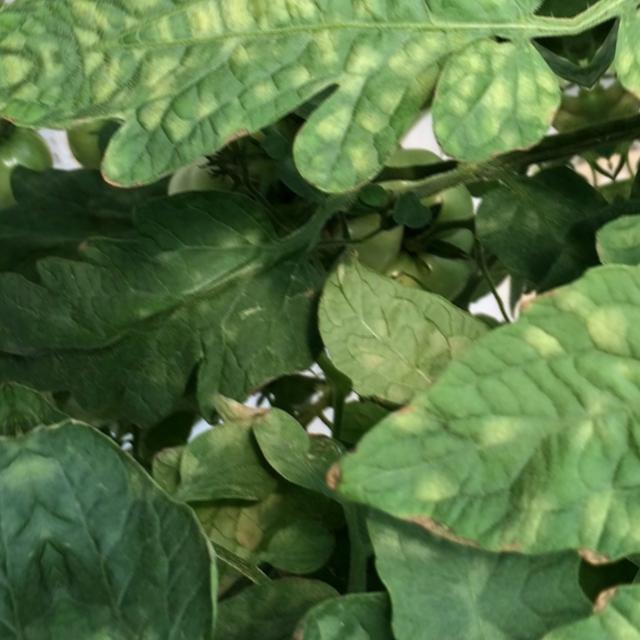Tomato mold leaf: (0, 0, 597, 286), (278, 171, 640, 636), (297, 221, 539, 434)
